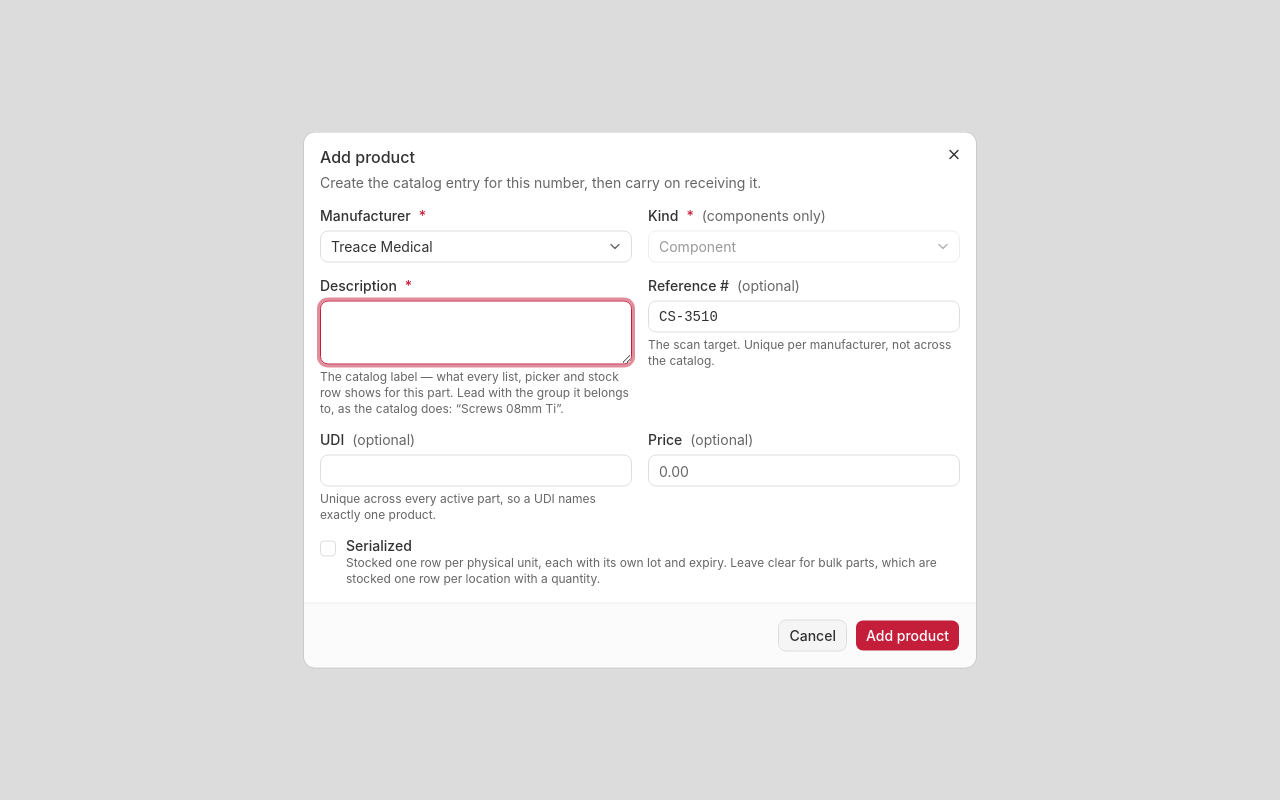
it: AddProductDialog › does not post a form with no description
This screenshot has width=1280, height=800.
Check: the dropdown named "manufacturer" shows "Treace", box [320,230,632,262]
Click the button "Add product": (908, 636) [855,620,960,652]
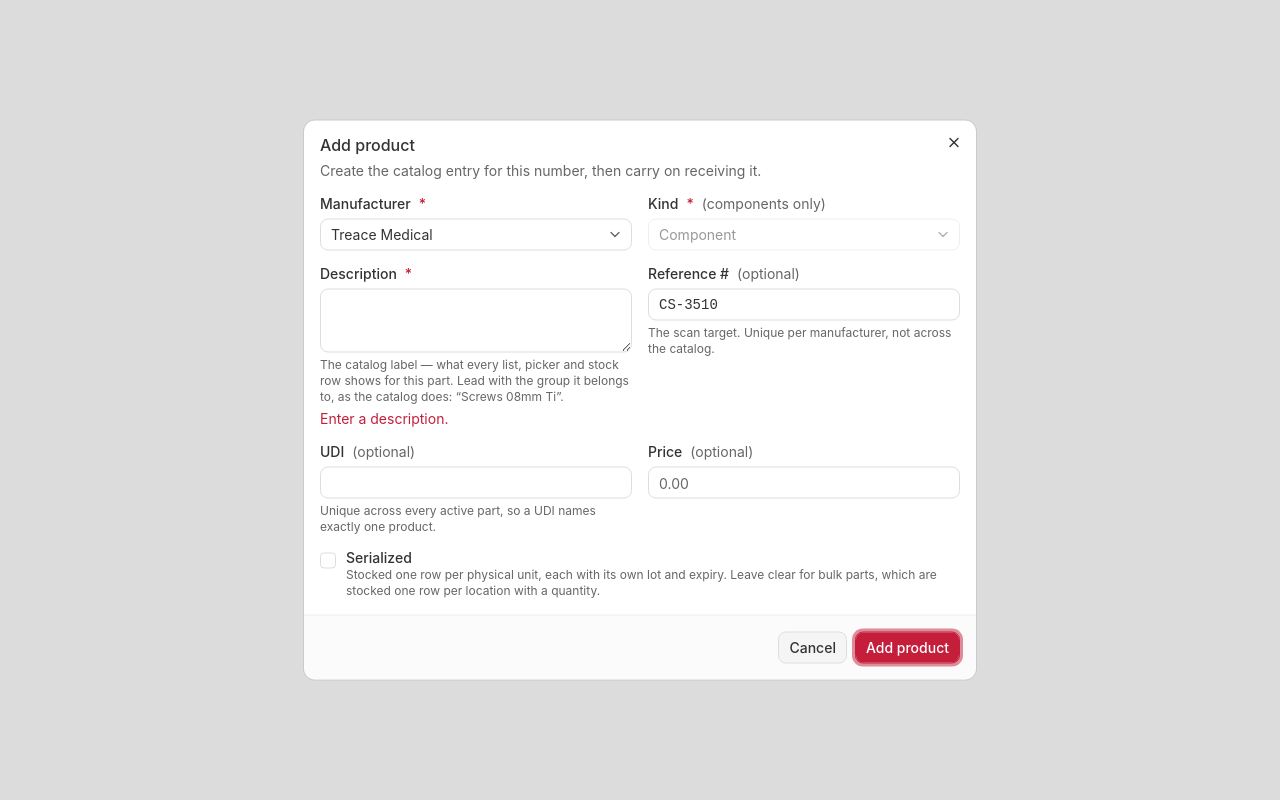
Check: the text "Enter a description." is shown, box [320,410,448,426]
